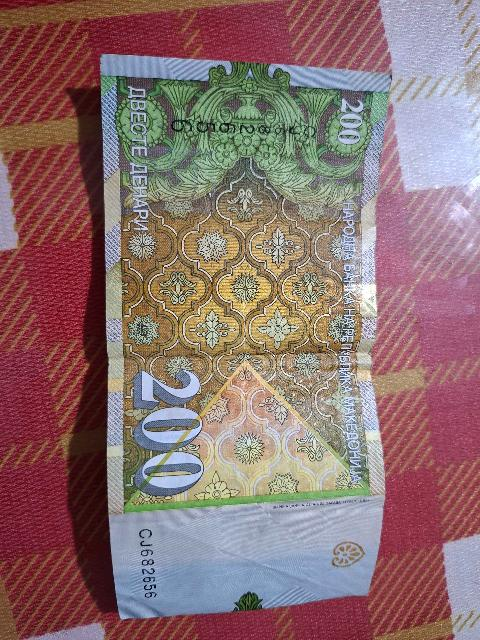200_note: (102, 56, 389, 617)
